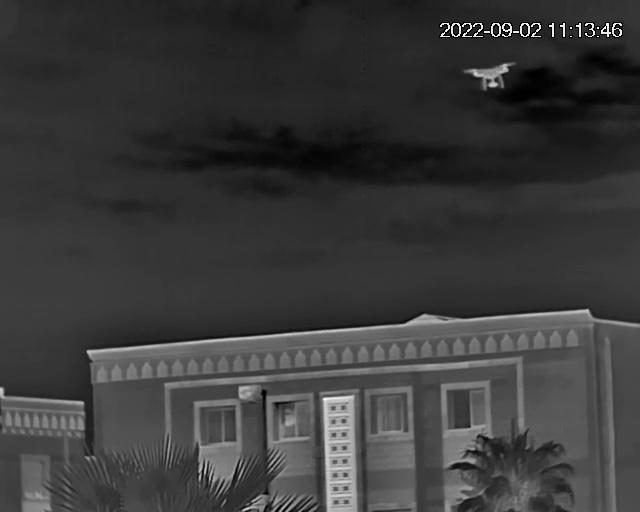DJI-Phantom: (462, 60, 521, 93)
